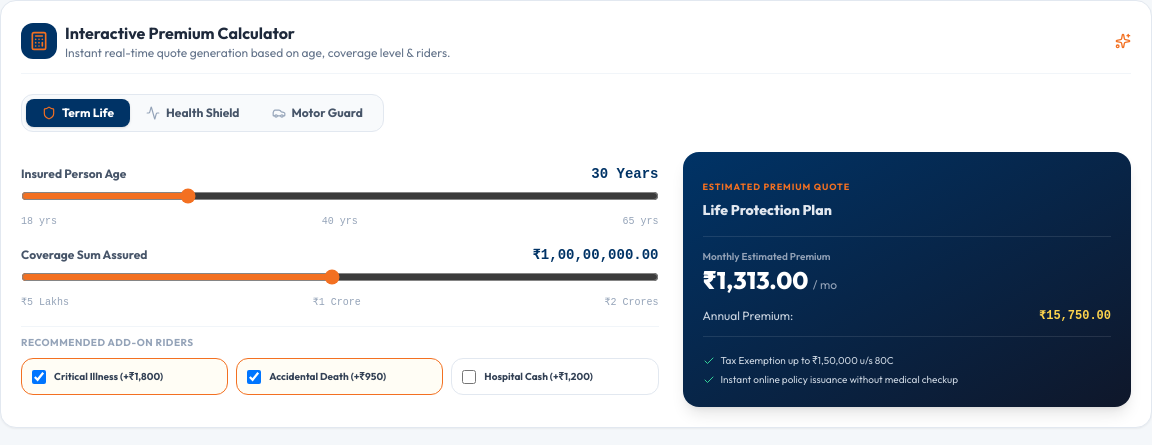
it: Insurance Hub Integration Tests › should calculate dynamic premium quotes in InsuranceCalculator
Expected: the heading "Interactive Premium Calculator" is shown, top-left (65, 23), bottom-right (295, 43)
Expected: the heading "Life Protection Plan" is shown, top-left (702, 201), bottom-right (832, 219)
Switch category tab to Health Shield
Click the button "Health Shield": (193, 113) top-left (130, 99), bottom-right (256, 127)
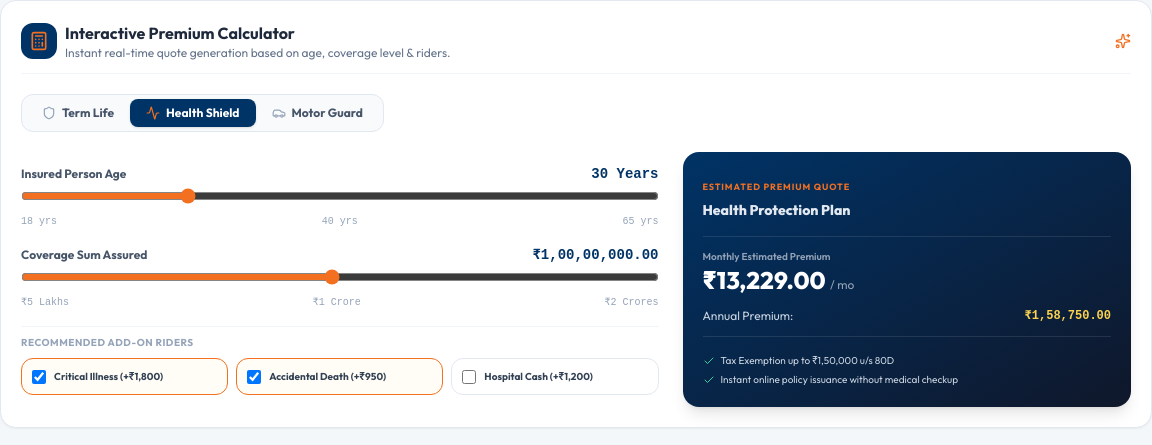
Now the heading "Health Protection Plan" is shown, box top-left (702, 201), bottom-right (850, 219)
